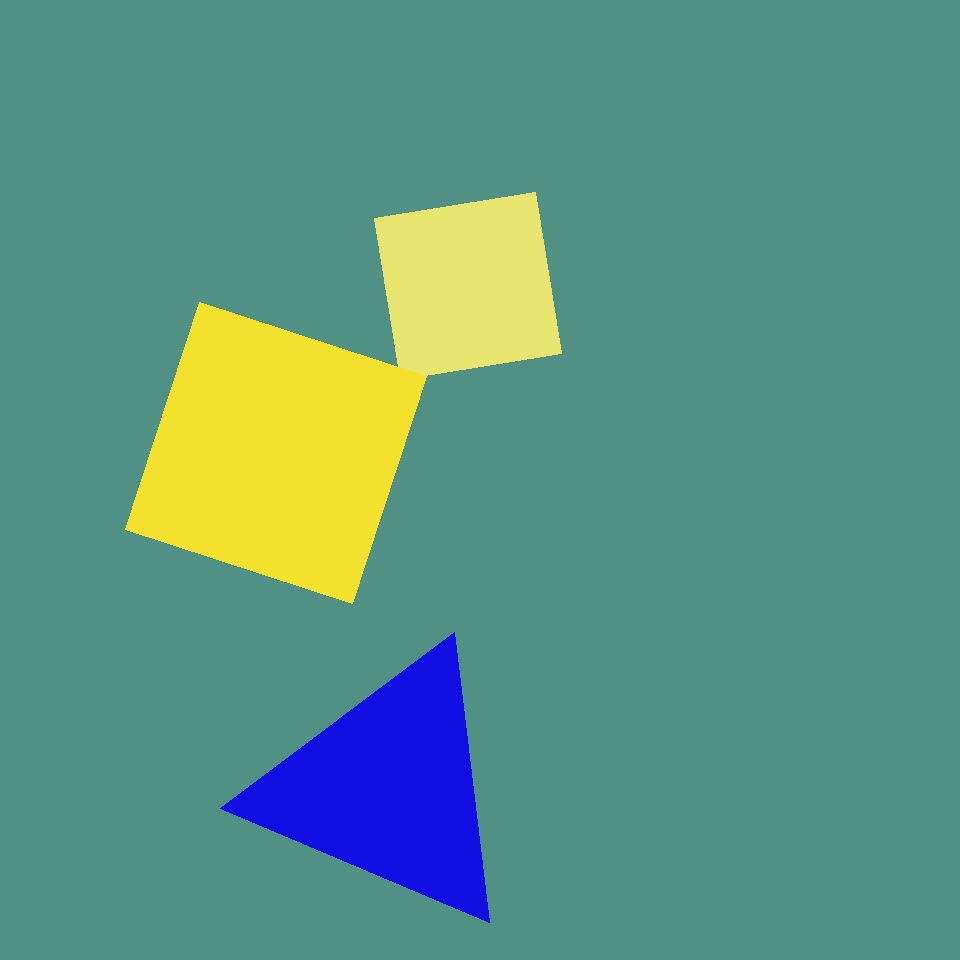circle: (253, 643, 522, 933)
square: (132, 178, 506, 552), (125, 302, 426, 604), (289, 604, 525, 840), (374, 192, 562, 380)
triangle: (416, 99, 575, 258)
